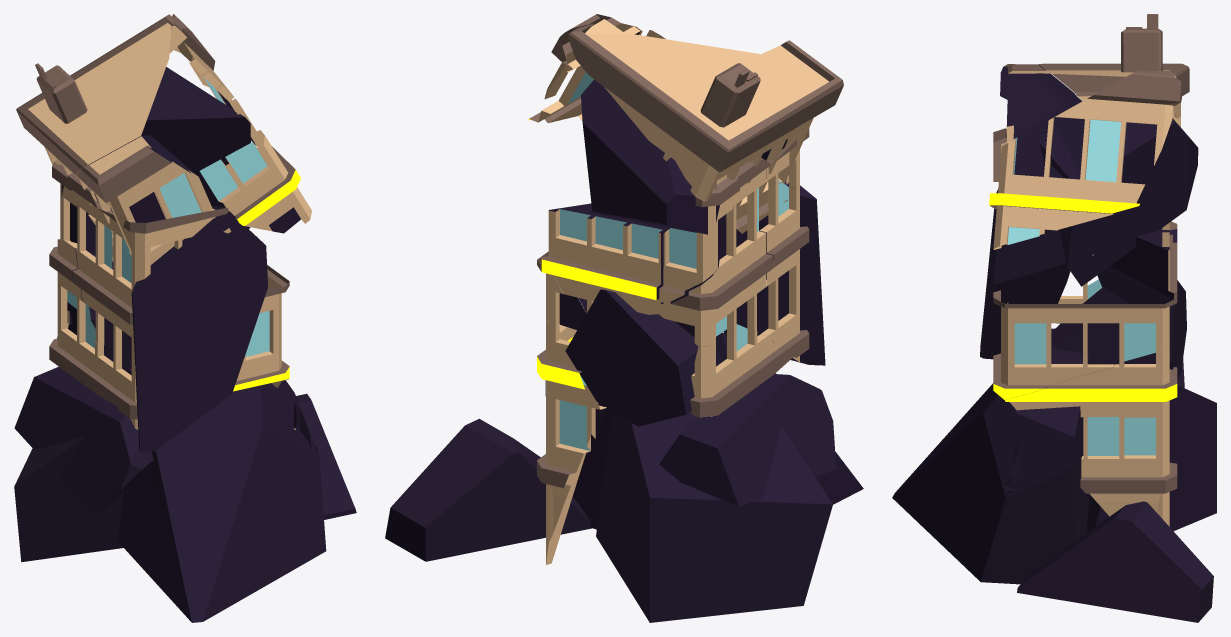
File: Building1.fbx
3 renders of one model, left to right at view 1: azimuth 30°, elevation 25°; view 2: azimuth 150°, elevation 25°; view 3: azimuth 270°, elevation 25°, orthographic. The views are drawn at different scales.
Parts seen in each view (by area): view 1: Full Destroy; view 2: Full Destroy; view 3: Full Destroy.
Boxes of the visible parts, x1,y1,x2,y2 form: Full Destroy: (14,14,356,622); Full Destroy: (385,14,863,622); Full Destroy: (892,14,1216,622).
Bounding box in the file's own units: 944 × 1266 × 769.
